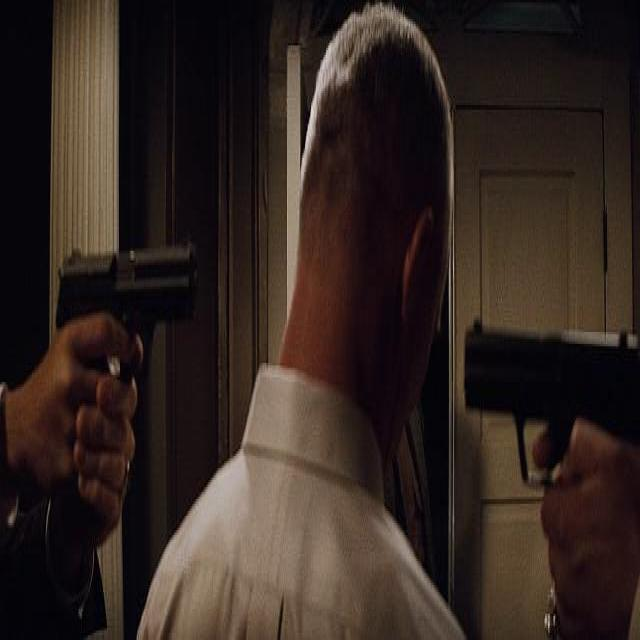pistol: (463, 319, 640, 492), (54, 246, 204, 386)
